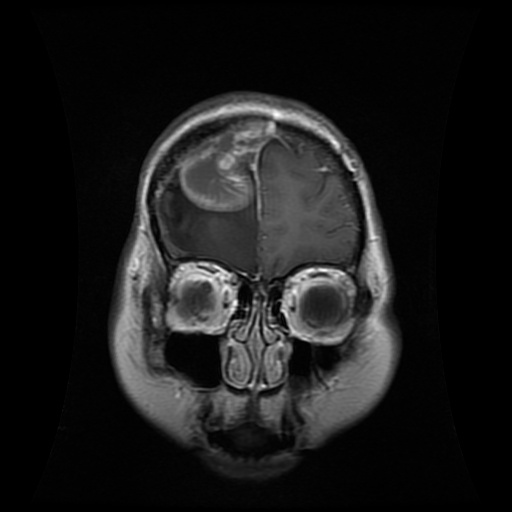glioma: (178, 121, 276, 212)
